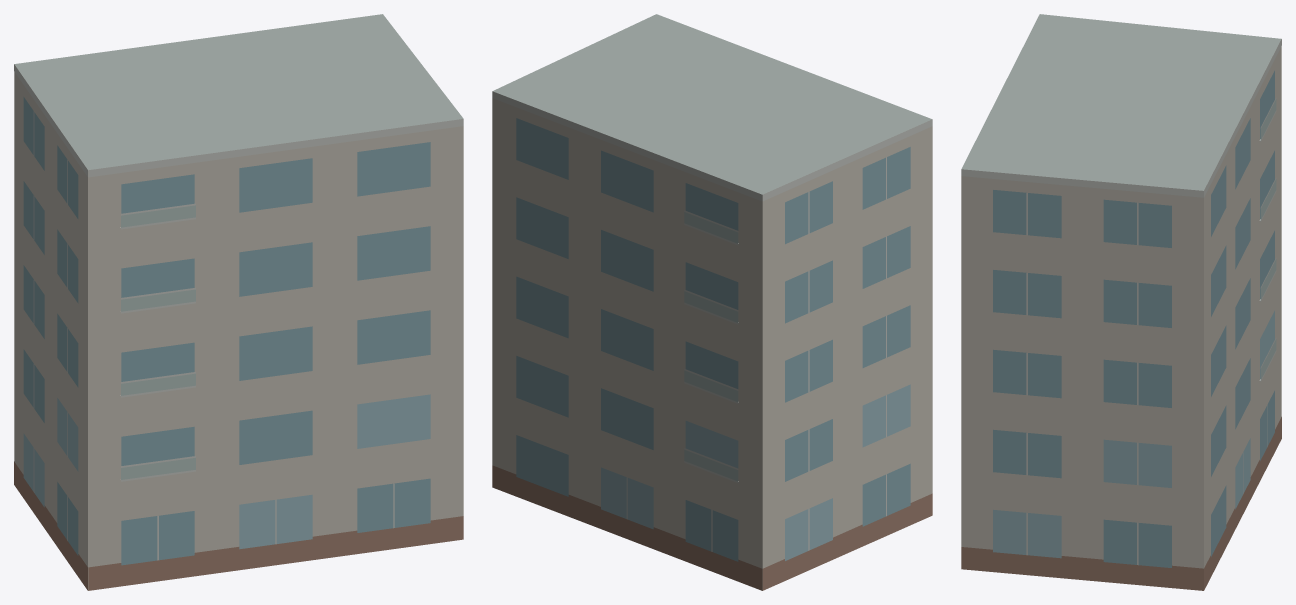
The model's file is survey-upis-32527675.glb.
3 renders of one model, left to right at view 1: azimuth 30°, elevation 25°; view 2: azimuth 150°, elevation 25°; view 3: azimuth 270°, elevation 25°, orthographic. The views are drawn at different scales.
Visible parts, largest first — view 1: survey-upis-32527675.tmp; view 2: survey-upis-32527675.tmp; view 3: survey-upis-32527675.tmp.
Part boxes in pixels (bbox=[...]): survey-upis-32527675.tmp: bbox=[14, 14, 463, 590]; survey-upis-32527675.tmp: bbox=[492, 14, 932, 590]; survey-upis-32527675.tmp: bbox=[961, 14, 1281, 590].
Size of the model in its own units: 13.48 by 14.2 by 10.32.
